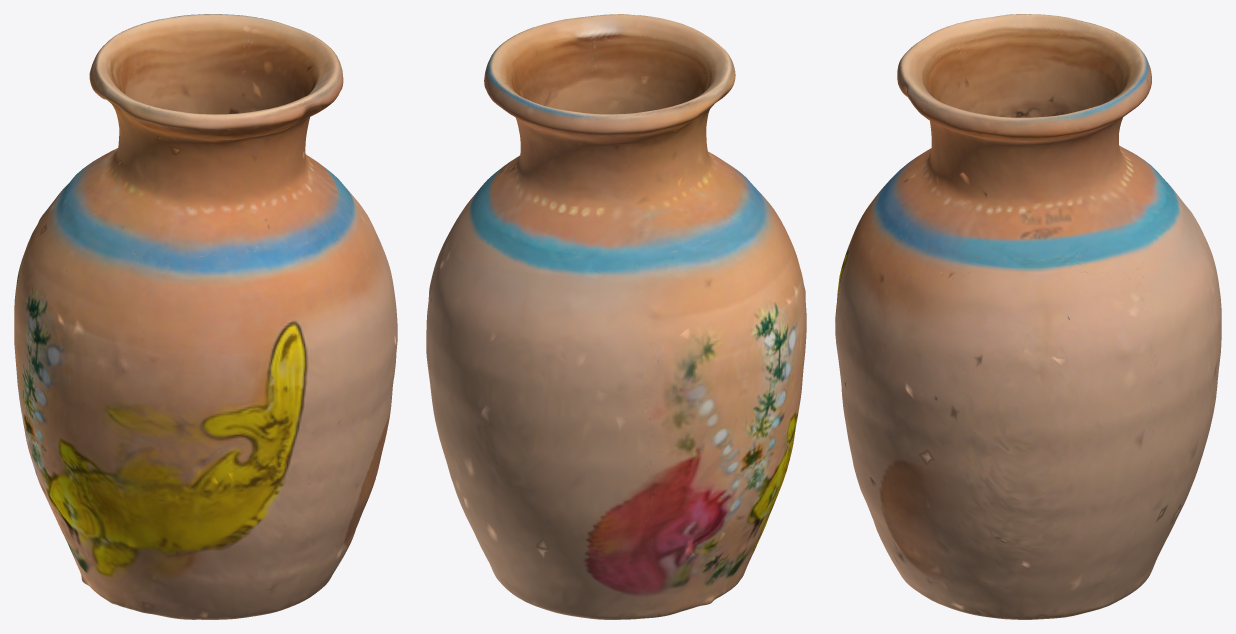
The model's file is binh.glb.
3 views of the same model, side by side, from view 1: azimuth 30°, elevation 25°; view 2: azimuth 150°, elevation 25°; view 3: azimuth 270°, elevation 25° (orthographic).
Size of the model in its own units: 1.38 by 2 by 1.38.
Materials: 1 (1 with a texture image).
